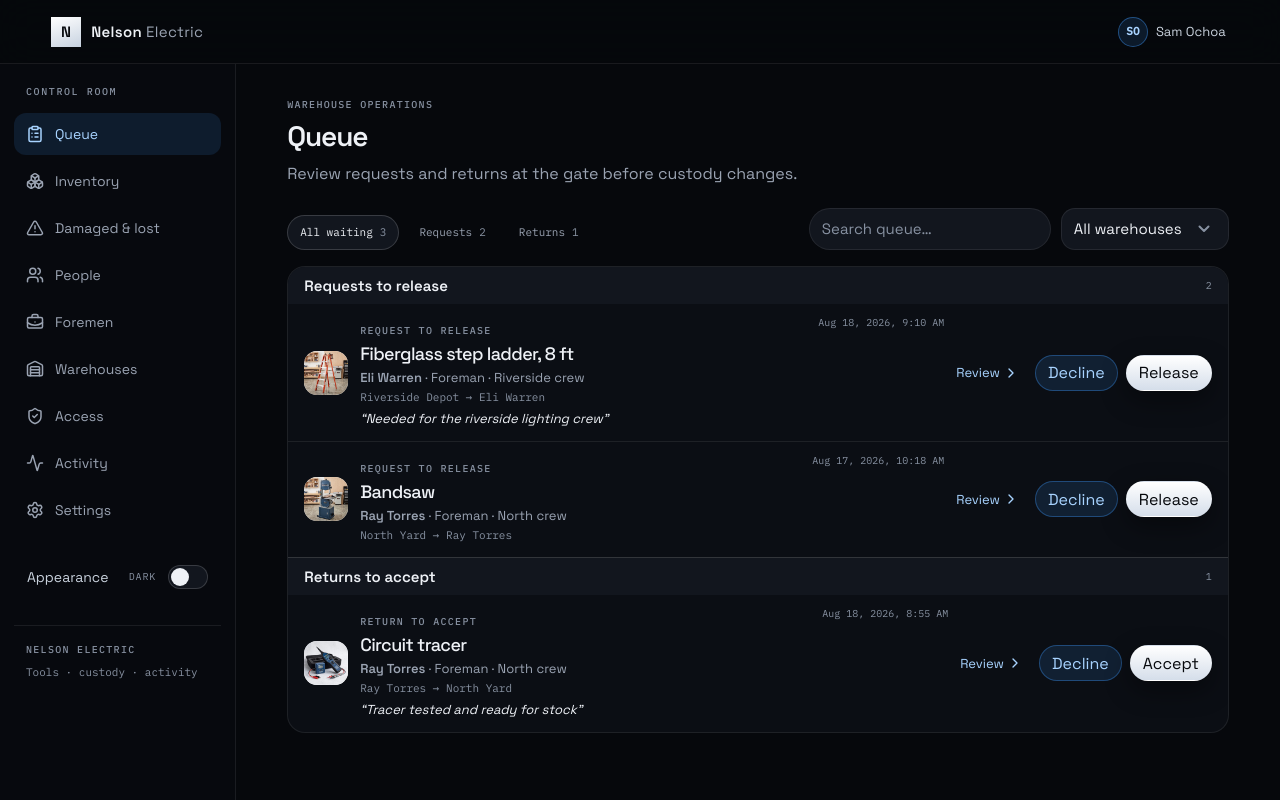
Test: warehouse queue draft safety › preserves the review draft when a queue decision fails
The image size is (1280, 800).
Expected: the heading "Queue" is shown, [287,118,368,154]
Click the button with aria-label "Review request for Bandsaw": (326, 499) [288,442,1035,557]
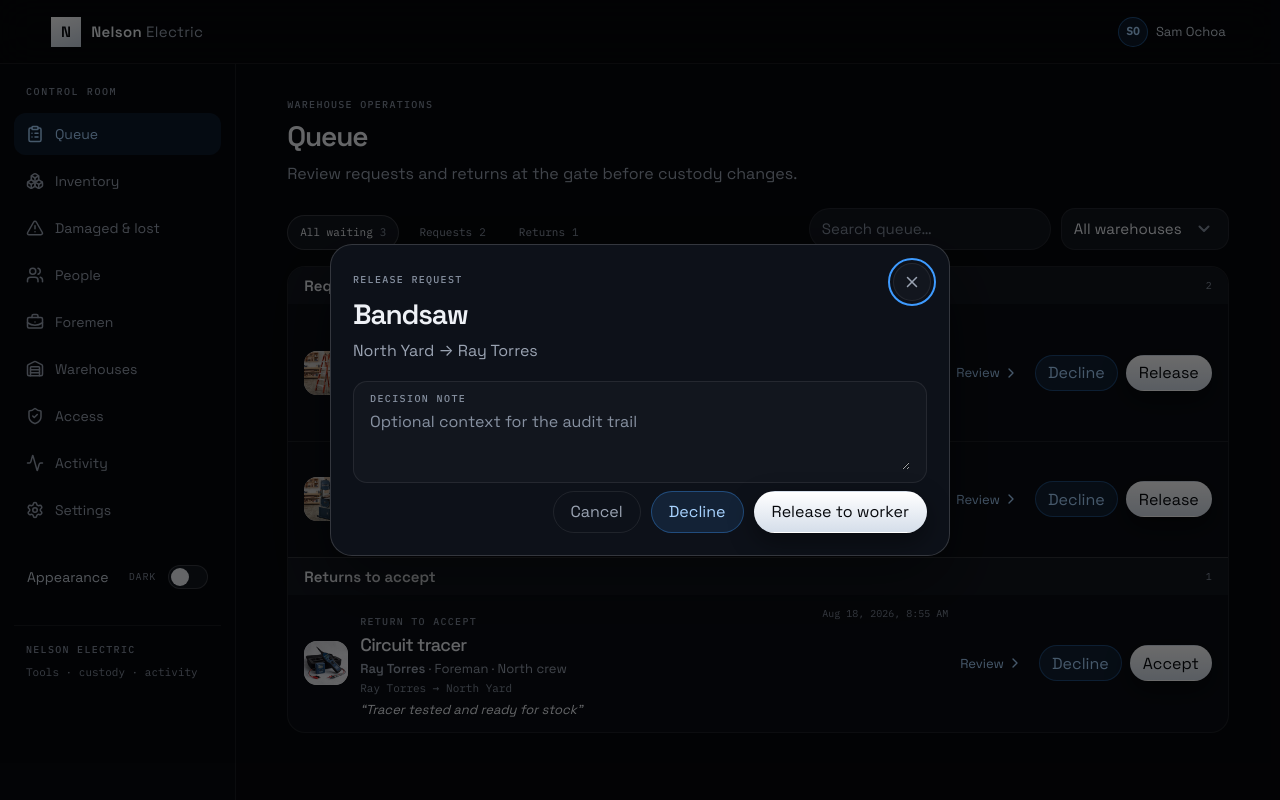
In the text box labelled "Decision note": (640, 441) [370,412,910,470], type "Retry after connectivity returns"
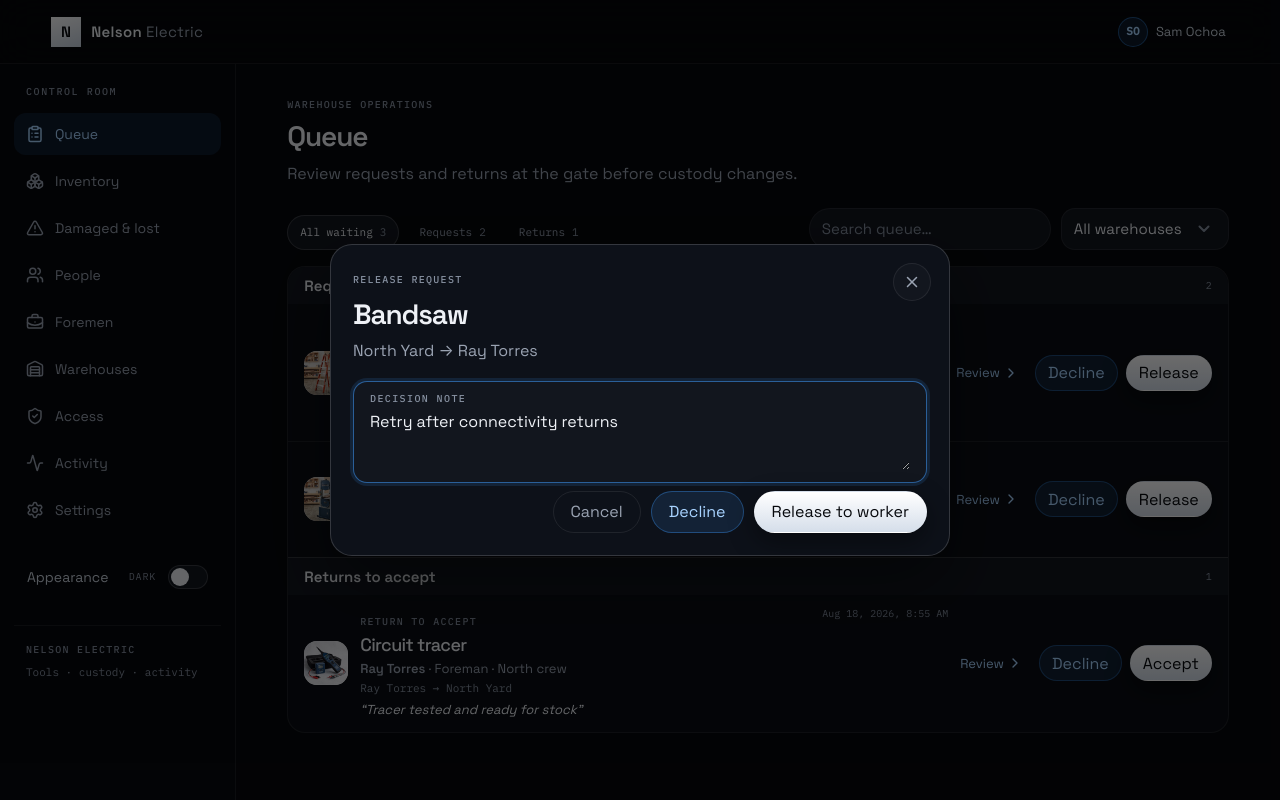
Click the button "Release to worker": (840, 512) [754,491,927,533]
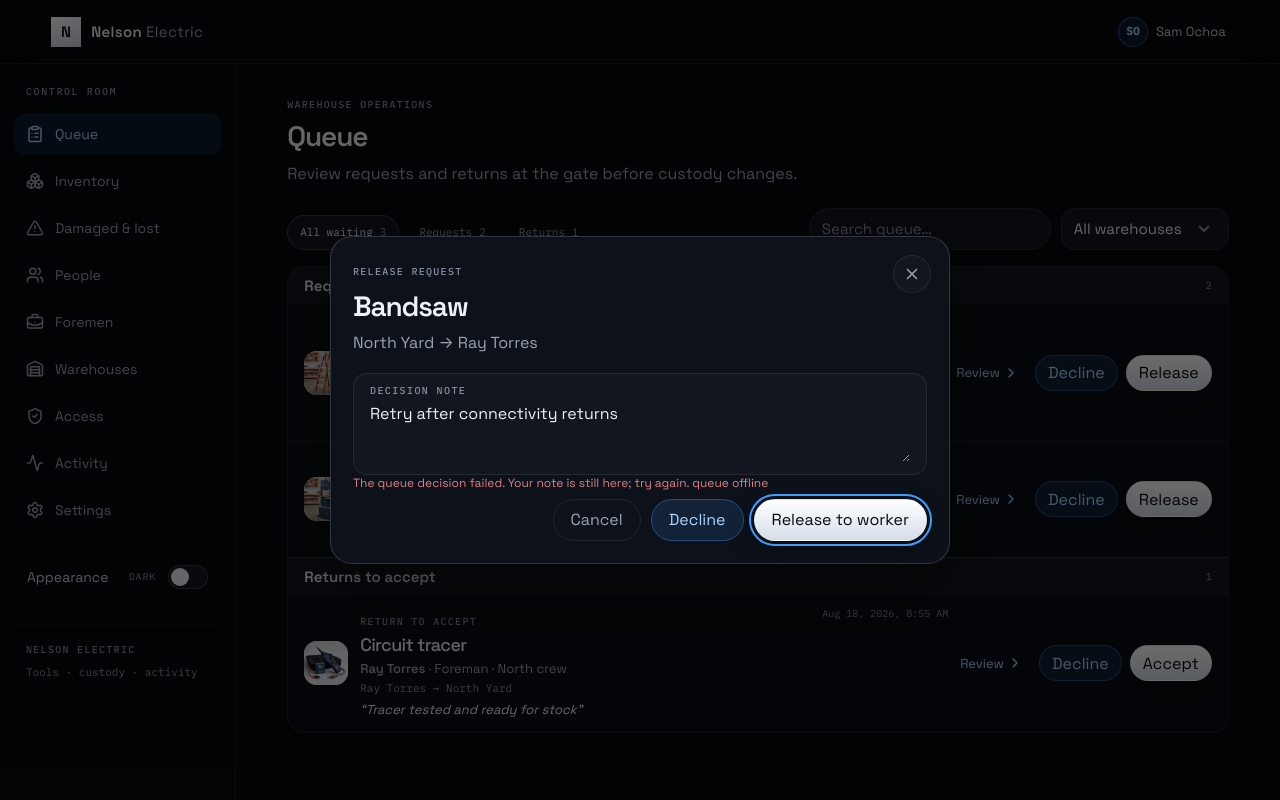
Now the text "The queue decision failed. Your note is still here; try again." is shown, box [353,475,689,491]
